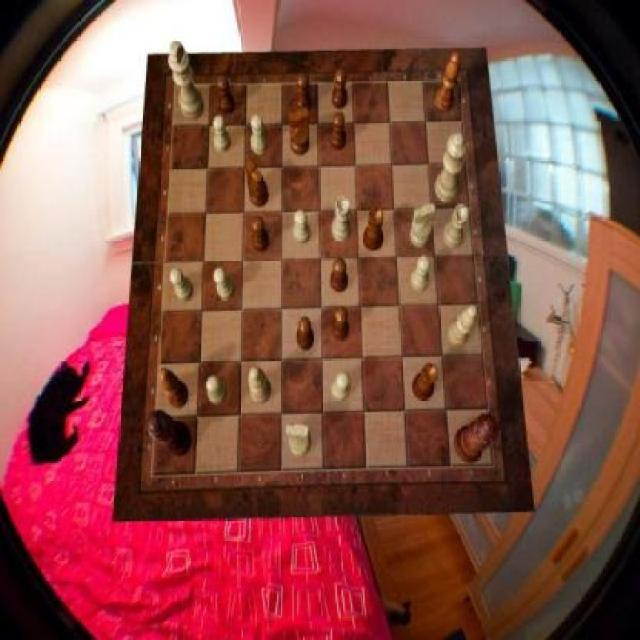bishop: (435, 52, 460, 112), (158, 368, 188, 408)
black-bishop: (148, 410, 192, 456)
black-king: (244, 158, 268, 208), (289, 109, 310, 157)
black-knight: (217, 77, 236, 117), (330, 112, 348, 151), (252, 216, 270, 252), (296, 74, 312, 114), (332, 69, 348, 109), (295, 315, 313, 350), (331, 306, 348, 341), (331, 259, 348, 293)
black-pawn: (454, 414, 498, 464)
black-queen: (412, 363, 440, 401), (363, 208, 384, 252)
black-rook: (448, 305, 478, 347), (250, 366, 272, 404)
white-bishop: (168, 40, 204, 120)
white-king: (411, 204, 437, 248), (286, 423, 311, 457)
white-knight: (170, 268, 194, 302), (411, 256, 431, 292), (250, 116, 268, 156), (213, 268, 234, 302), (214, 115, 231, 153), (294, 209, 311, 244), (206, 376, 227, 404), (332, 372, 350, 400)
white-pawn: (434, 133, 467, 204)
white-queen: (443, 203, 468, 249), (331, 196, 351, 242)
